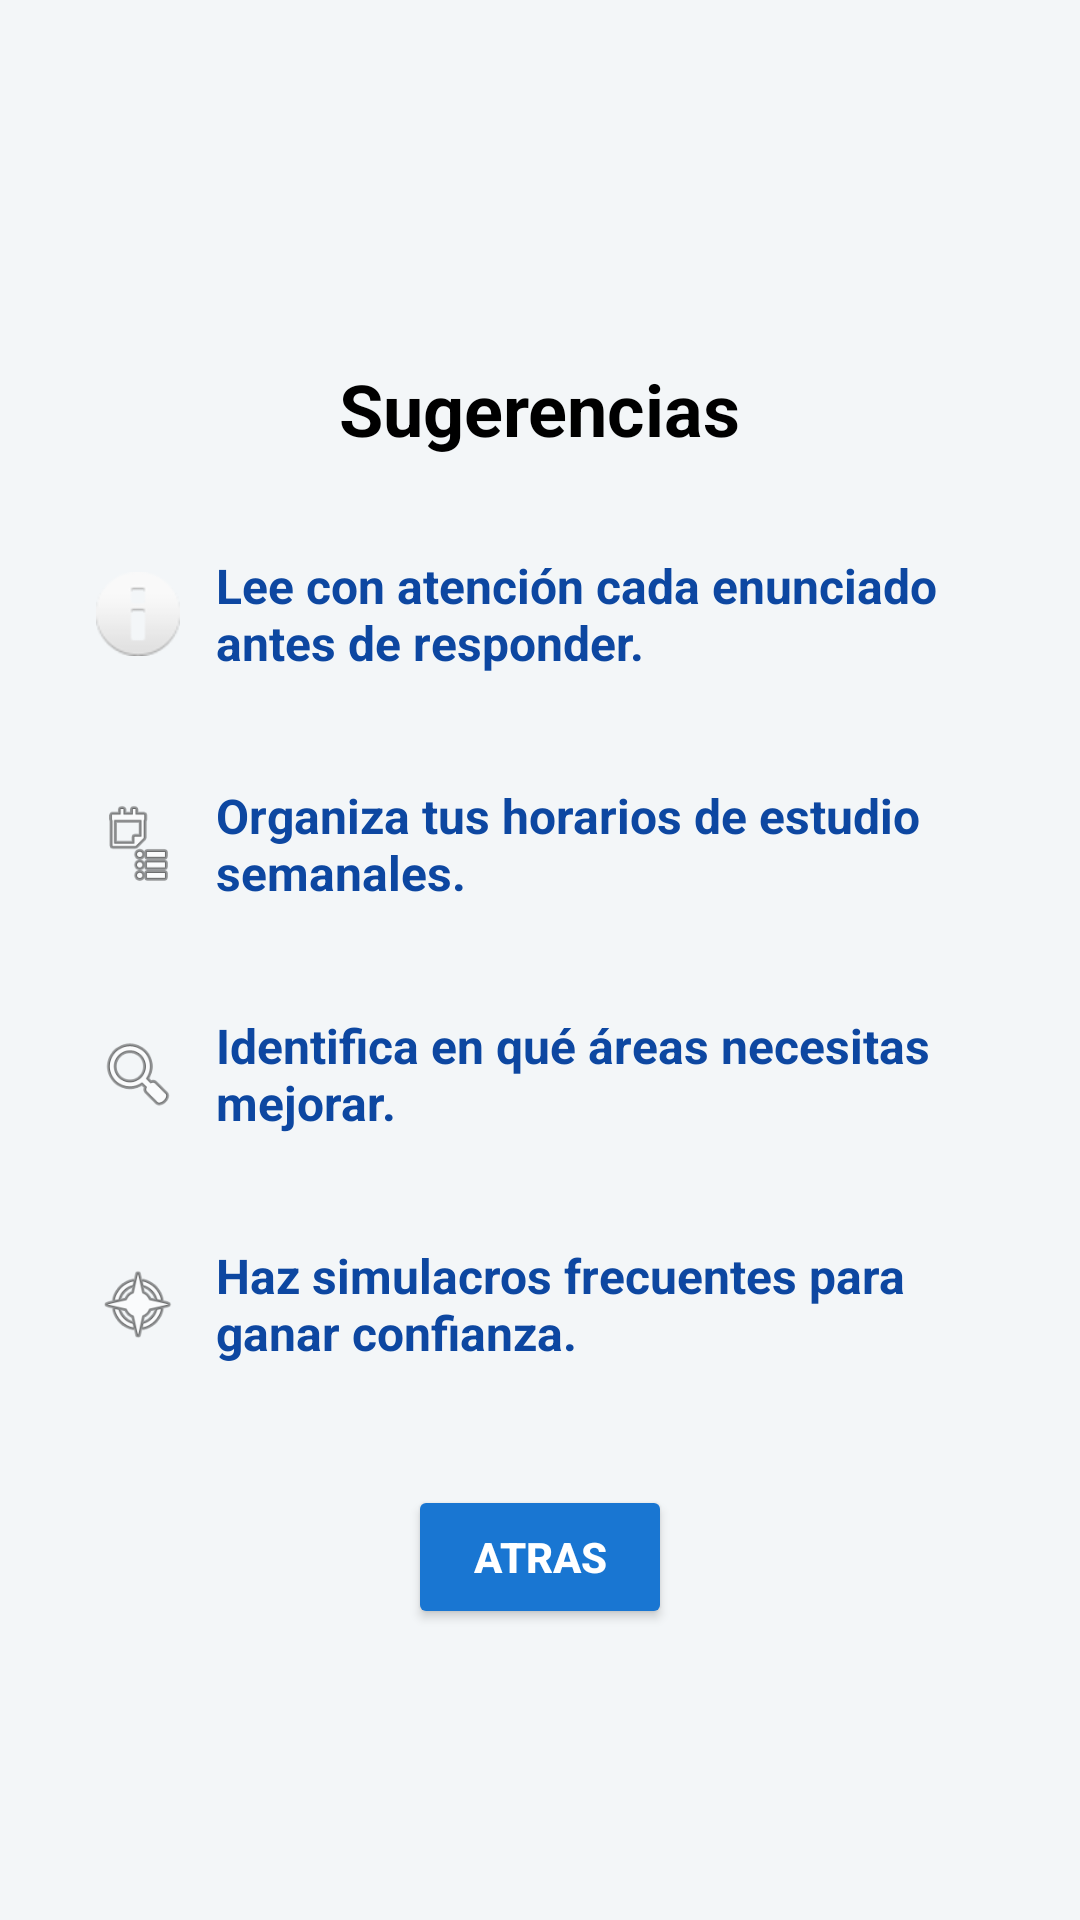

Icon bounding boxes for this 1080×1920 phone screenshot, format (x1,y1,x2,y2):
agenda: (109,806,168,881)
compass: (104,1271,171,1338)
info: (96,588,180,656)
search: (107,1043,169,1106)
